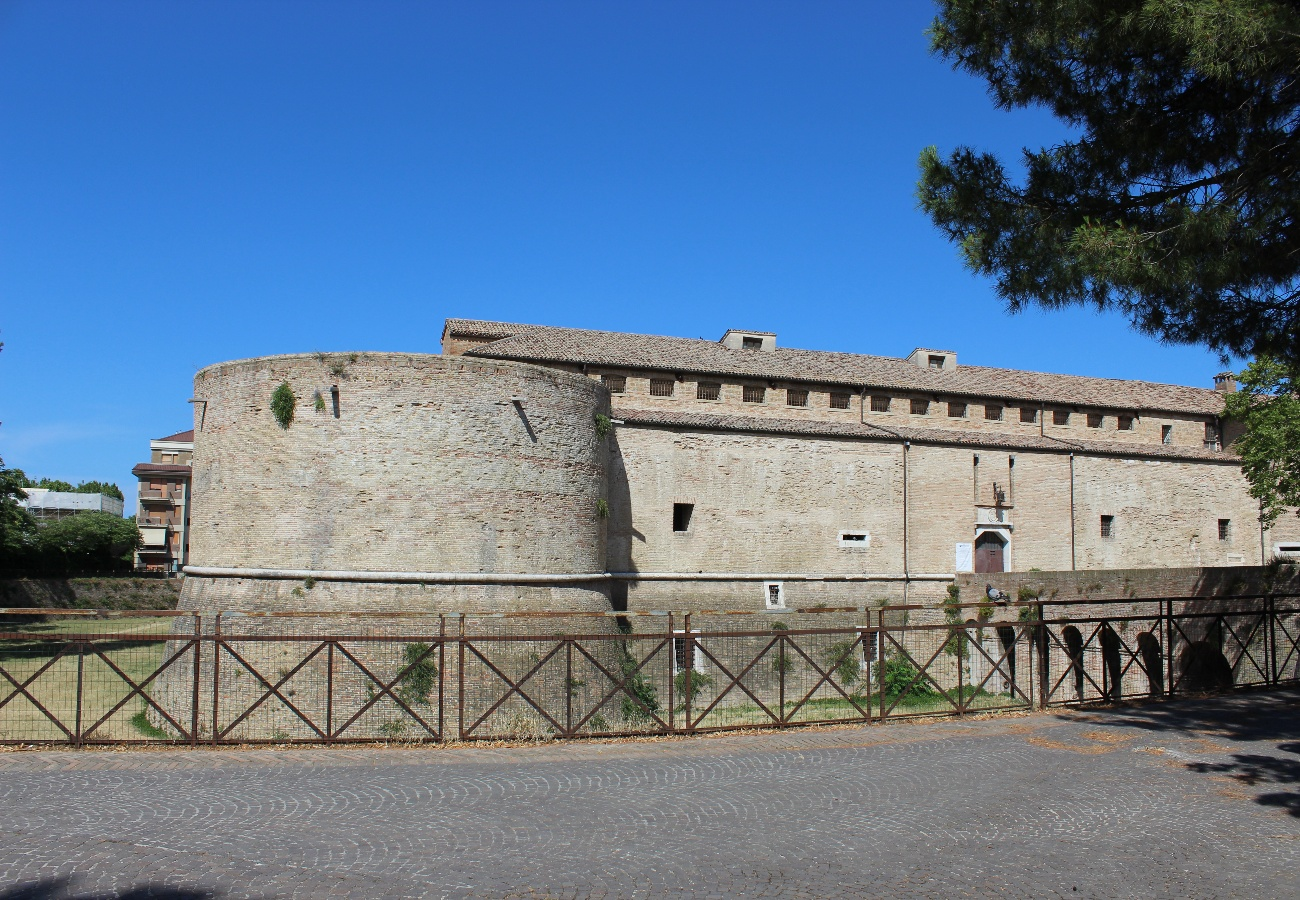Rocca Costanza: (172, 320, 1300, 738)
